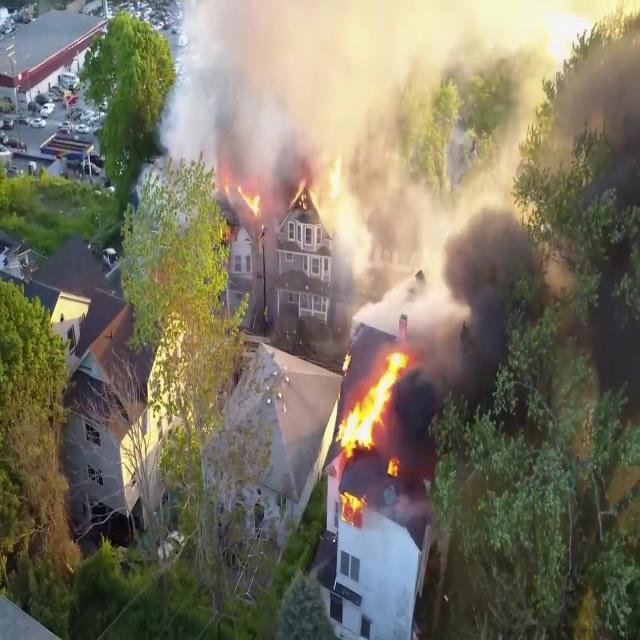Fire: (331, 346, 411, 466), (222, 172, 262, 220)
Smoke: (153, 0, 521, 324)
